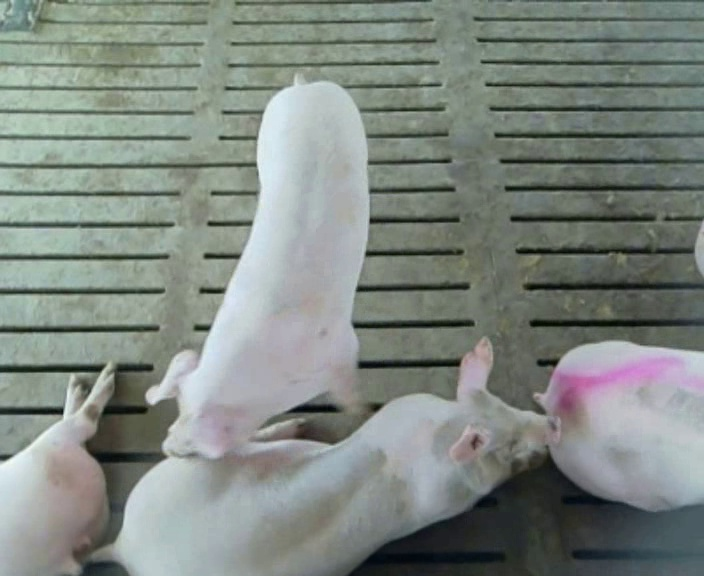pig: (95, 339, 560, 574), (146, 73, 368, 458), (534, 341, 703, 510), (0, 362, 114, 574)
